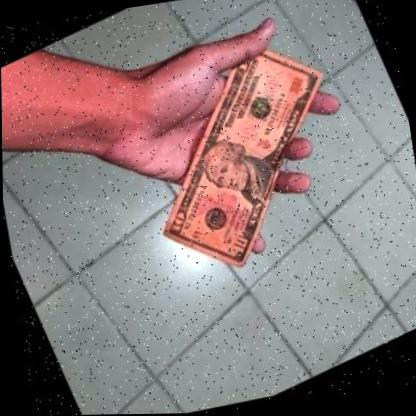ten-front: (95, 12, 391, 307)
